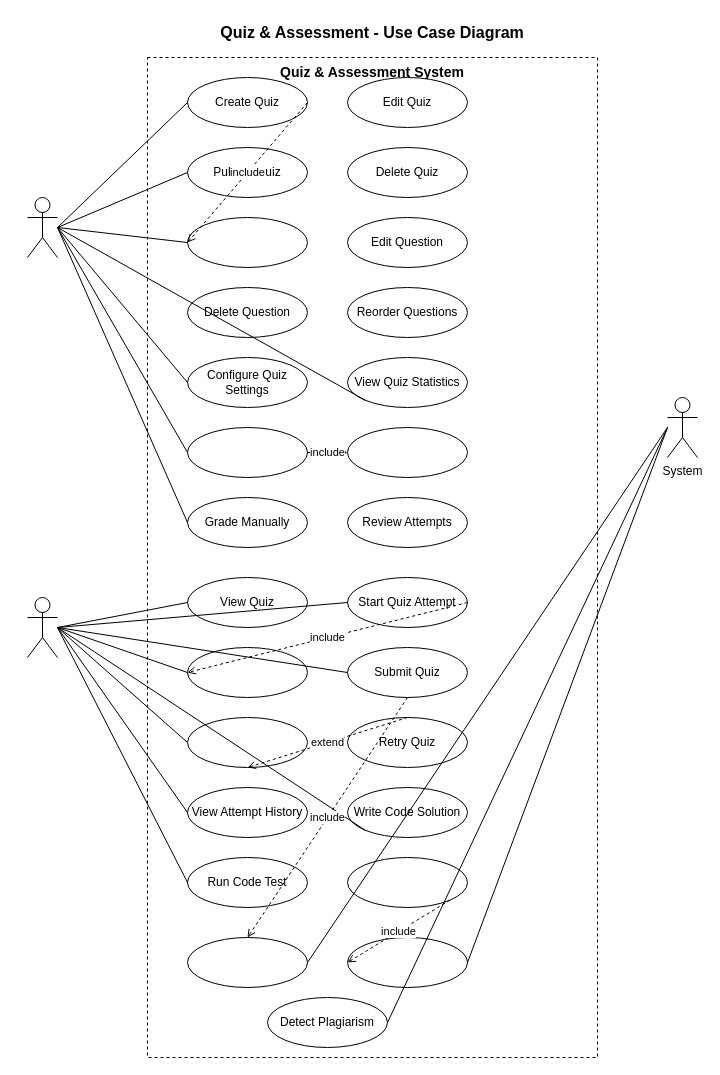
This 720x1075 diagram has some shape labels left out. The box of each missing label's shape, as (x1, y1, x2, y2) in pixels:
Add Question: (186, 216, 308, 268)
Add Test Cases: (346, 426, 468, 478)
Answer Question: (186, 646, 308, 698)
Auto-Grade Quiz: (186, 936, 308, 988)
Create Coding Exercise: (186, 426, 308, 478)
Execute Code Sandbox: (346, 936, 468, 988)
Instructor: (26, 196, 58, 258)
Student: (26, 596, 58, 658)
Submit Code: (346, 856, 468, 908)
View Results: (186, 716, 308, 768)
